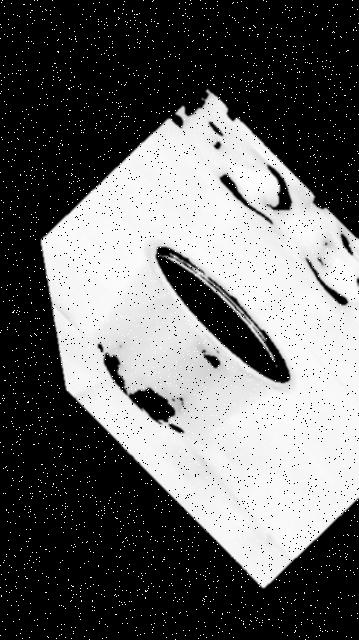pot: (96, 241, 294, 435)
